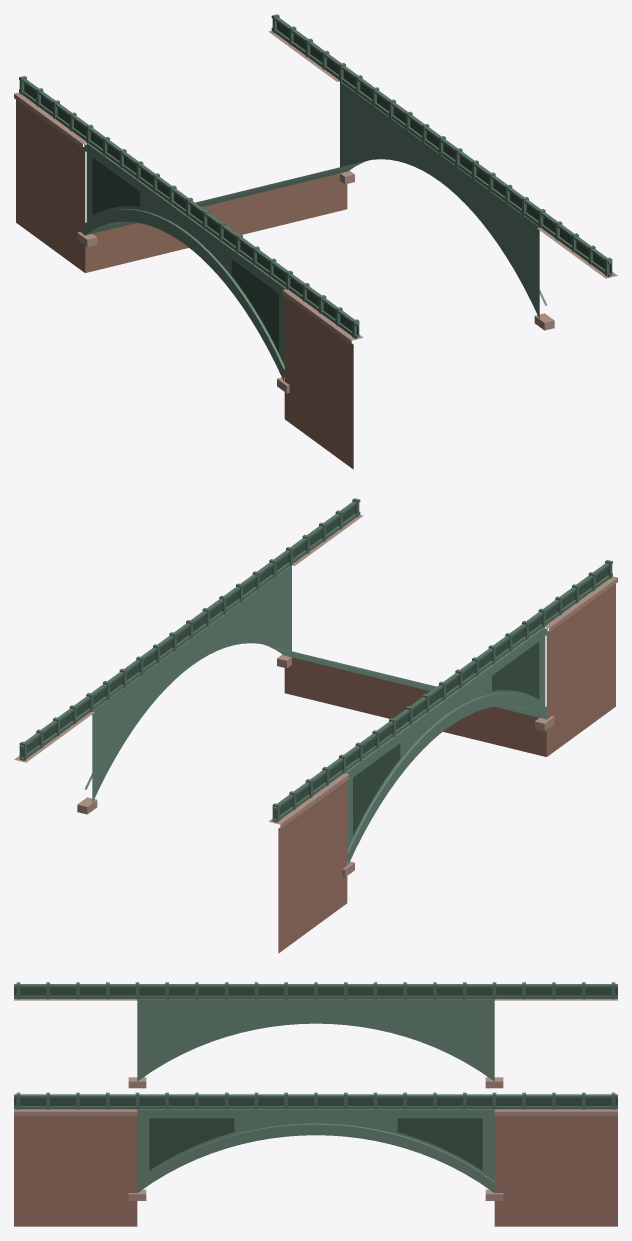
File: nyc-terrace-bridge.glb
3 views of the same model, one above another, from view 1: azimuth 30°, elevation 25°; view 2: azimuth 150°, elevation 25°; view 3: azimuth 270°, elevation 25° (orthographic). The views are drawn at different scales.
Visible parts, largest first — view 1: Terrace Bridge; view 2: Terrace Bridge; view 3: Terrace Bridge.
Boxes of the visible parts, left/top/right/bottom form: Terrace Bridge: left=14, top=14, right=617, bottom=469; Terrace Bridge: left=14, top=498, right=617, bottom=953; Terrace Bridge: left=14, top=982, right=617, bottom=1226.
Size of the model in its own units: 18.6 by 9.7 by 40.6.
